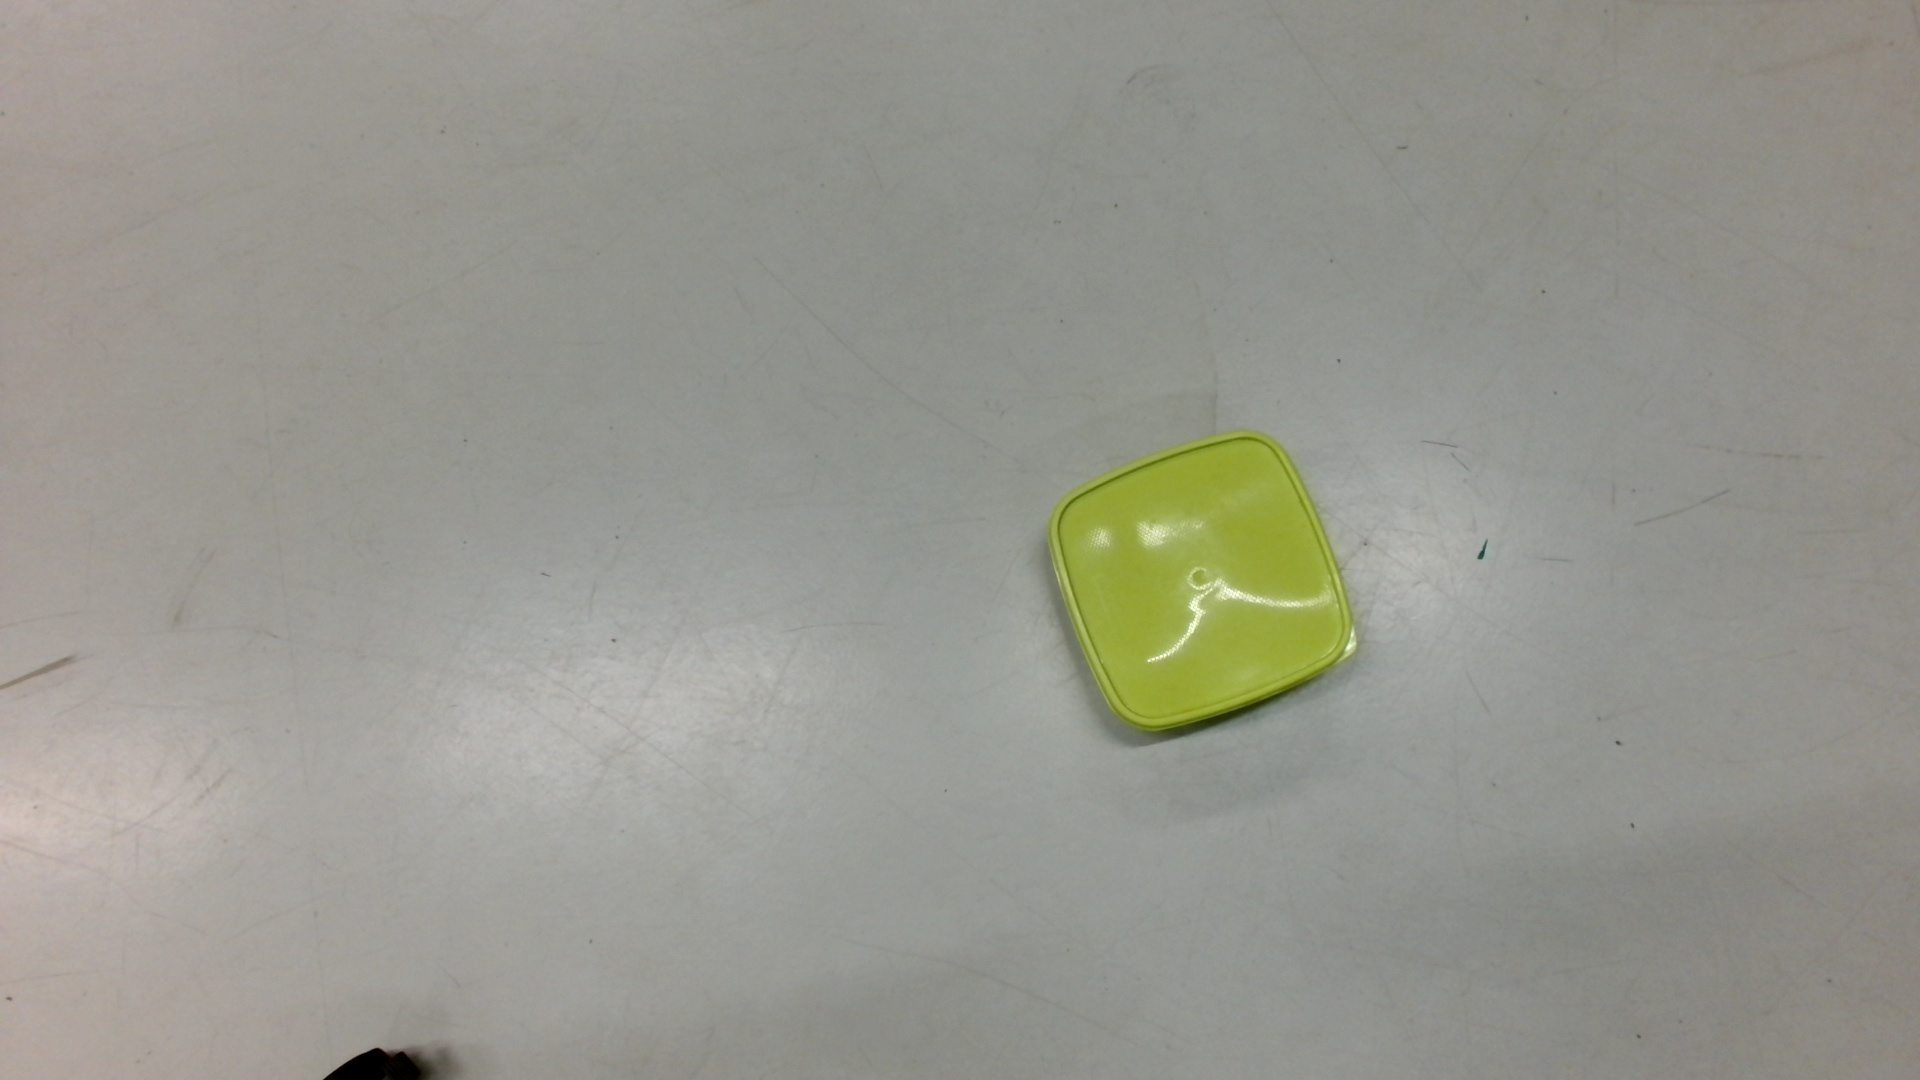Box: (1039, 422, 1365, 744)
